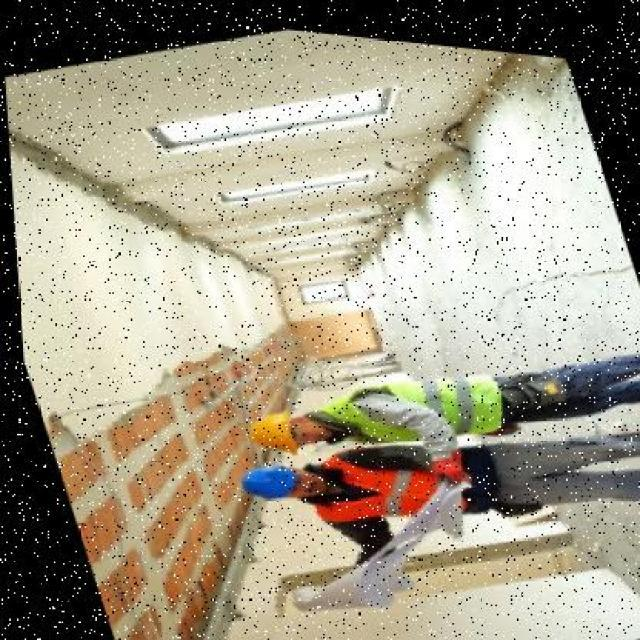helmet: (222, 449, 304, 507), (234, 397, 297, 455)
vest: (316, 336, 523, 454), (292, 425, 491, 536)
